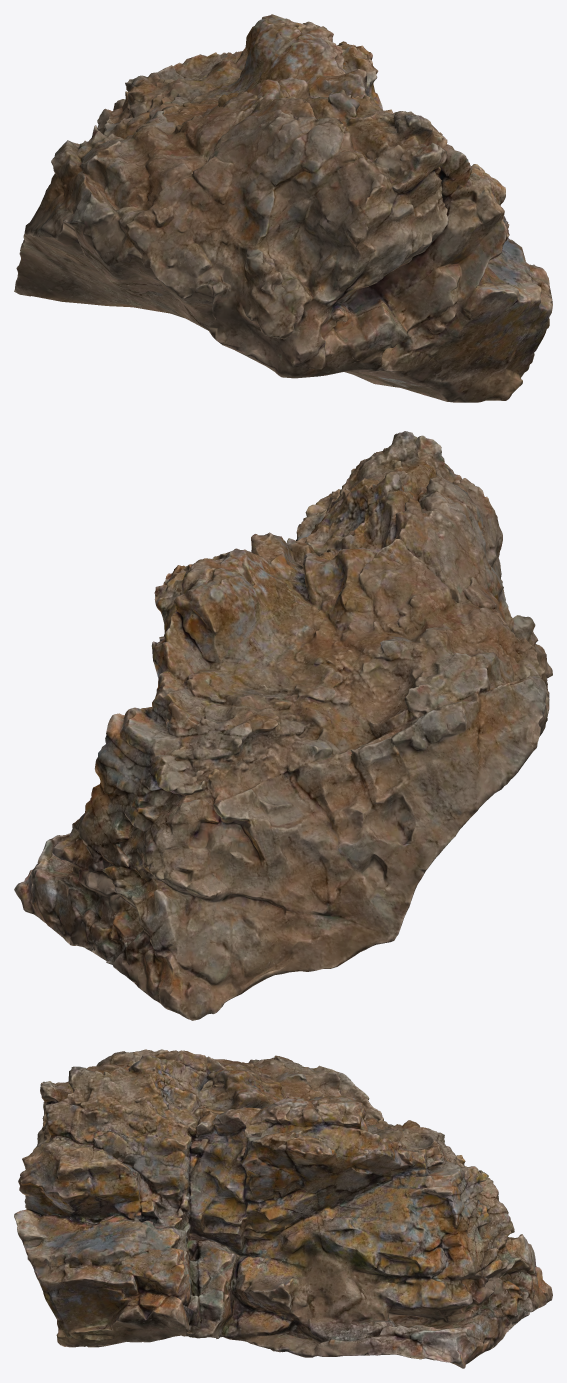
Rendered from boulder_01.glb.
3 renders of one model, top to bottom at view 1: azimuth 30°, elevation 25°; view 2: azimuth 150°, elevation 25°; view 3: azimuth 270°, elevation 25°, orthographic. The views are drawn at different scales.
Visible parts, largest first — view 1: boulder_01; view 2: boulder_01; view 3: boulder_01.
Part boxes in pixels (left/top/right/bottom): boulder_01: left=14, top=14, right=552, bottom=402; boulder_01: left=14, top=431, right=552, bottom=1020; boulder_01: left=14, top=1049, right=552, bottom=1368.
Size of the model in its own units: 1.27 by 1 by 1.83.
Materials: 1 (1 with a texture image).
